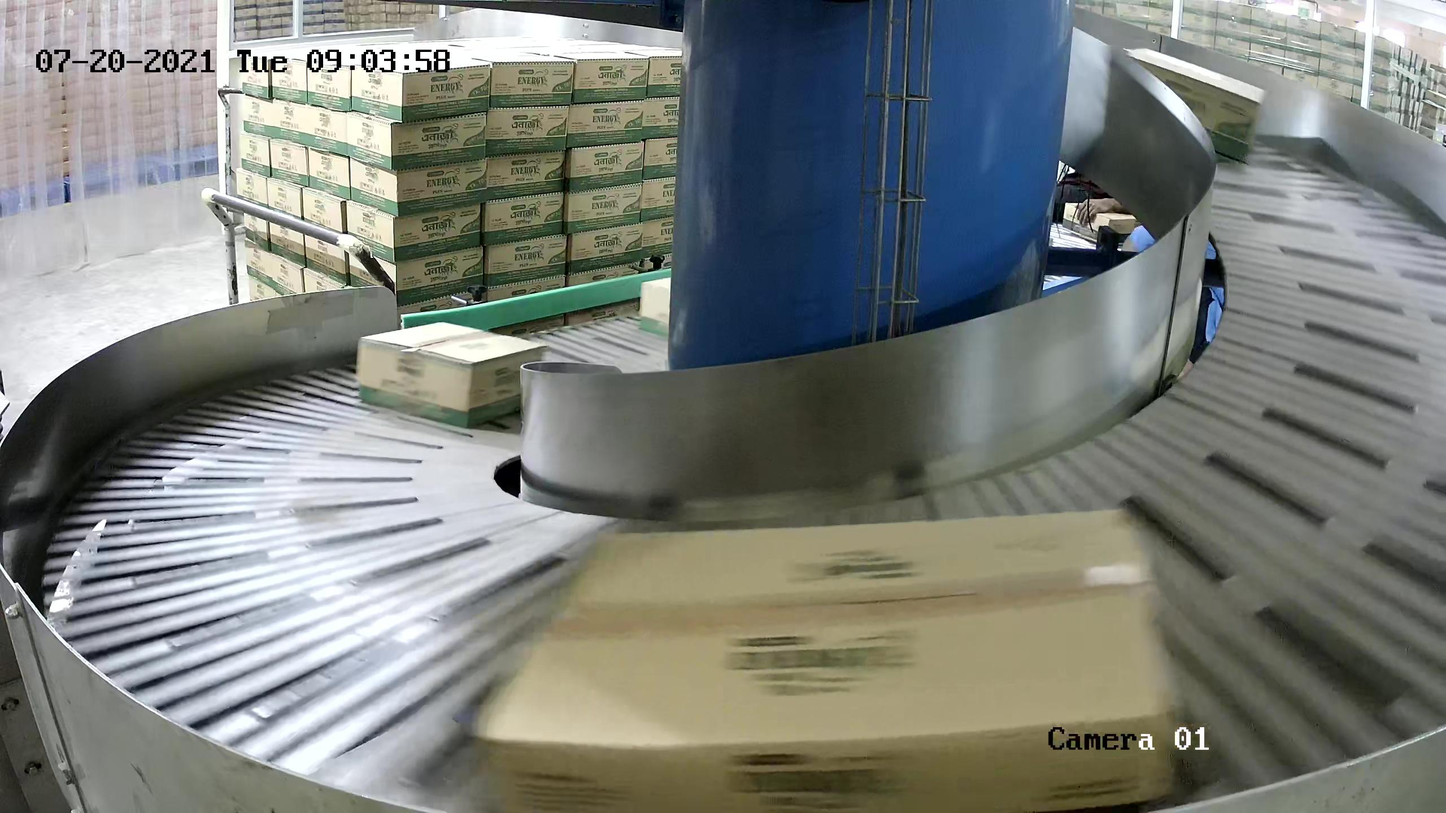Box: (469, 504, 1201, 813), (356, 321, 548, 431), (1113, 48, 1270, 166)
